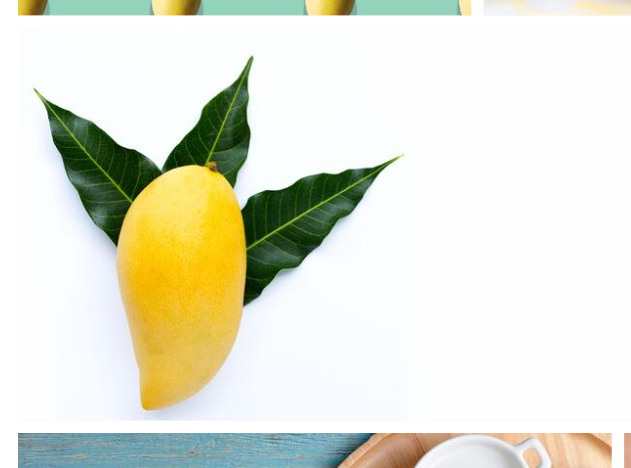mango: (115, 164, 249, 412)
